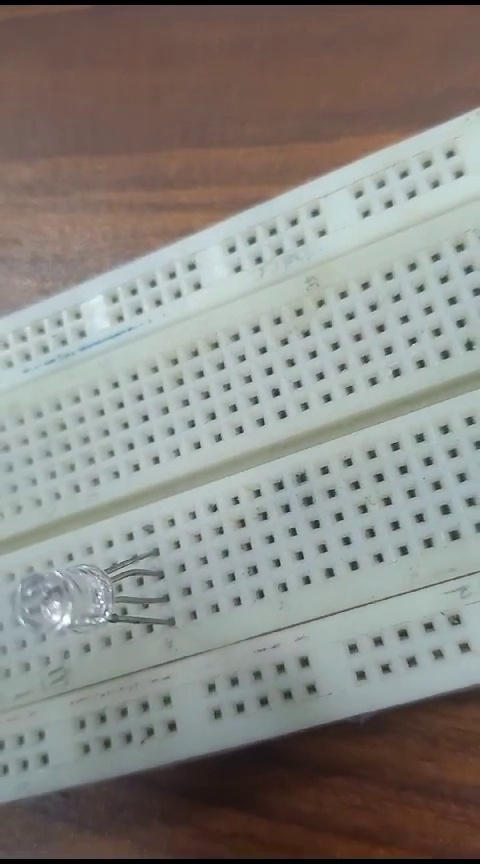LED: (7, 553, 170, 649)
